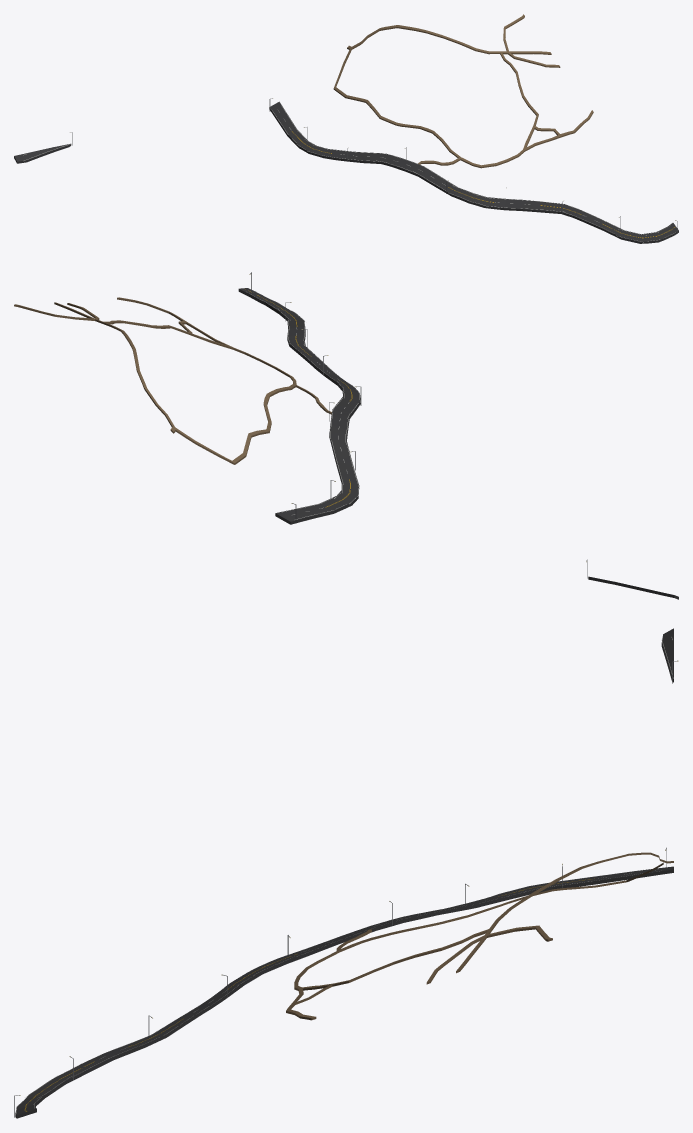
The model's file is 17-109449-59484.92357cbe.glb.
The picture shows the model from 3 angles, top to bottom: view 1: azimuth 30°, elevation 25°; view 2: azimuth 150°, elevation 25°; view 3: azimuth 270°, elevation 25°; orthographic projection. The views are drawn at different scales.
Bounding box in the file's own units: 294 × 65.1 × 206.
